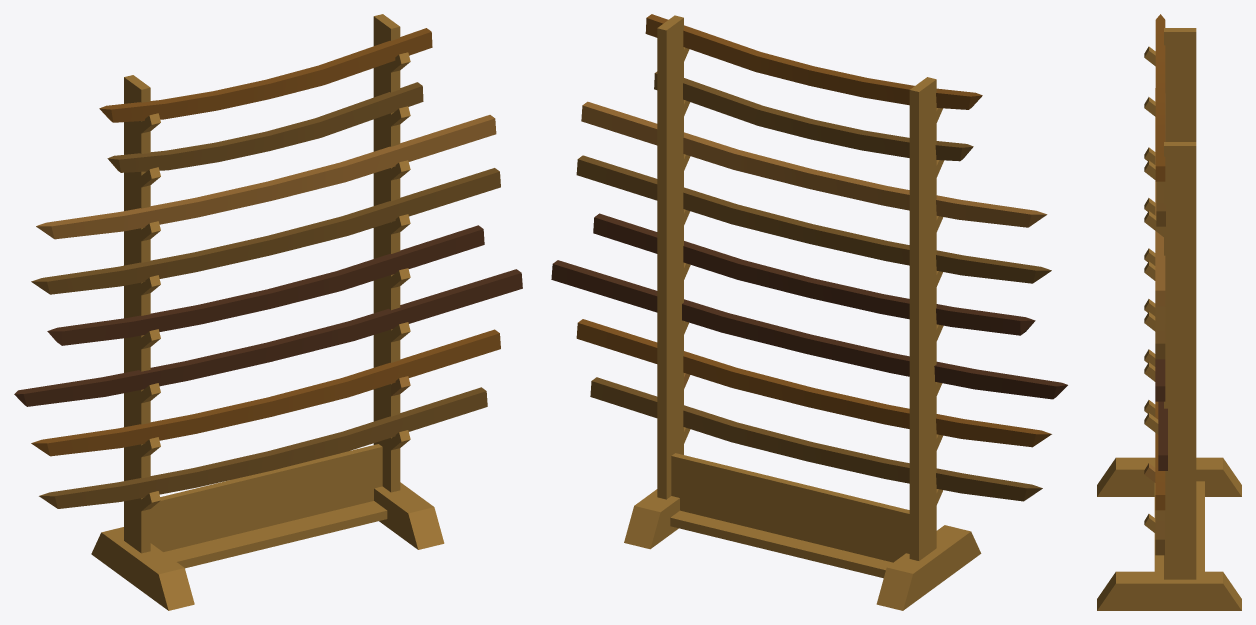
The model's file is Prop_Dojo_WoodSwordHolder_A.fbx.
3 views of the same model, side by side, from view 1: azimuth 30°, elevation 25°; view 2: azimuth 150°, elevation 25°; view 3: azimuth 270°, elevation 25° (orthographic). The views are drawn at different scales.
Visible parts, largest first — view 1: Prop_Dojo_WoodSwordHolder_A; view 2: Prop_Dojo_WoodSwordHolder_A; view 3: Prop_Dojo_WoodSwordHolder_A.
Boxes of the visible parts, x1=… form: Prop_Dojo_WoodSwordHolder_A: x1=14, y1=14, x2=522, y2=610; Prop_Dojo_WoodSwordHolder_A: x1=551, y1=14, x2=1067, y2=610; Prop_Dojo_WoodSwordHolder_A: x1=1097, y1=14, x2=1241, y2=610.
Bounding box in the file's own units: 134 × 125 × 35.53.
